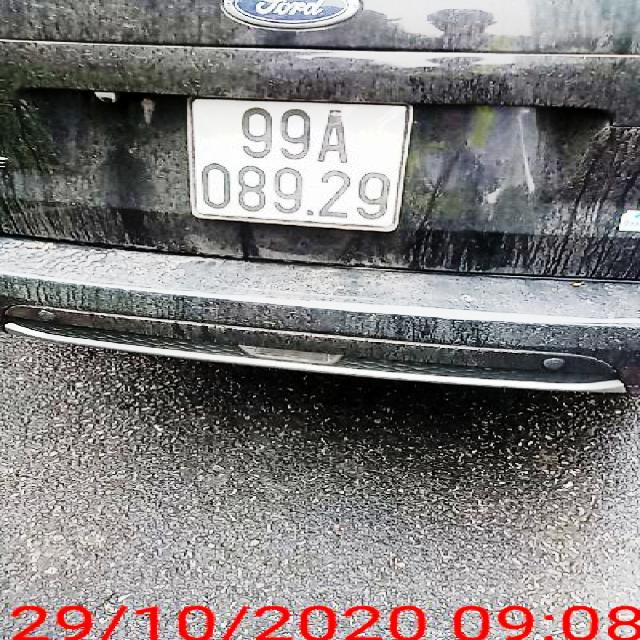license_plate: (191, 101, 410, 228)
